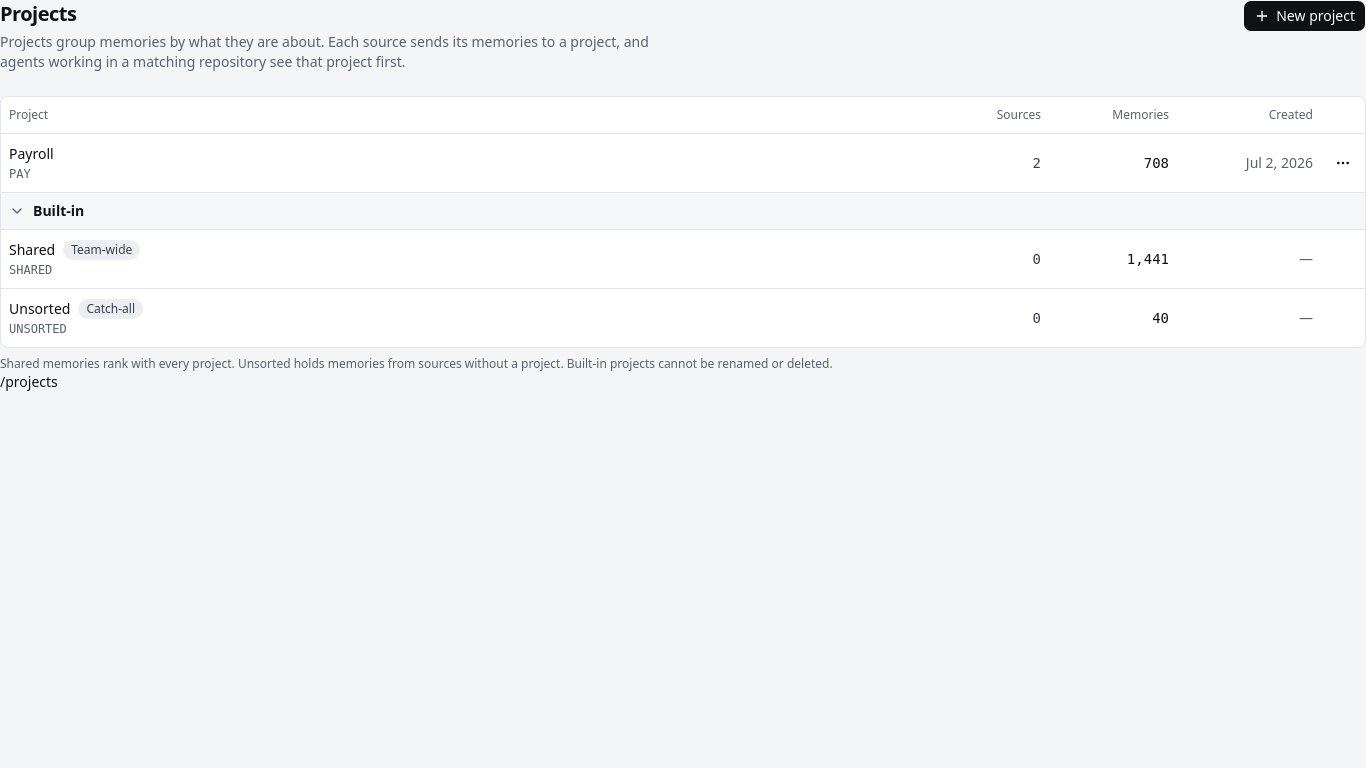
Scenario: the delete cannot go ahead until it knows what the delete changes
The image size is (1366, 768).
Click the button named "Actions for Payroll". click: [1343, 162]
box: [1329,148,1357,176]
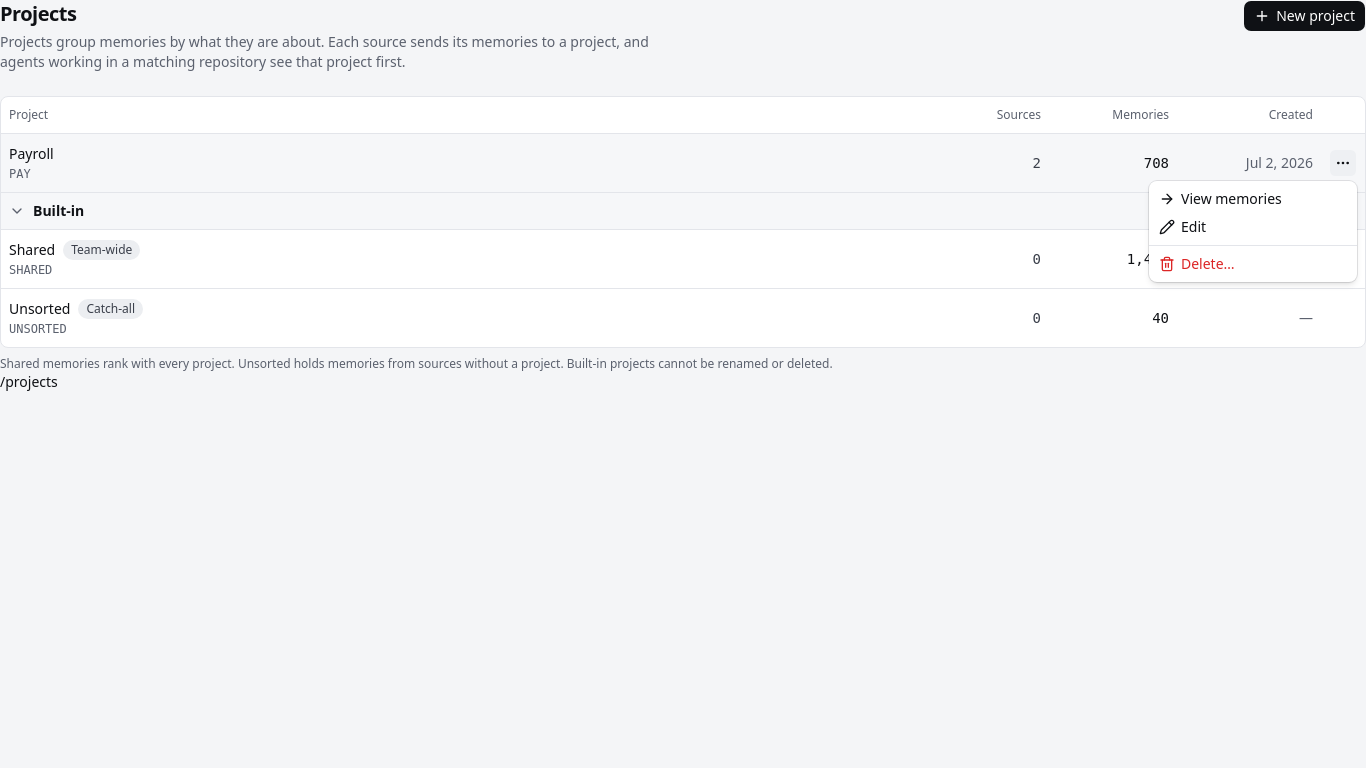
Click the menu item "Delete…". click: [1197, 264]
box: [1159,254,1235,273]
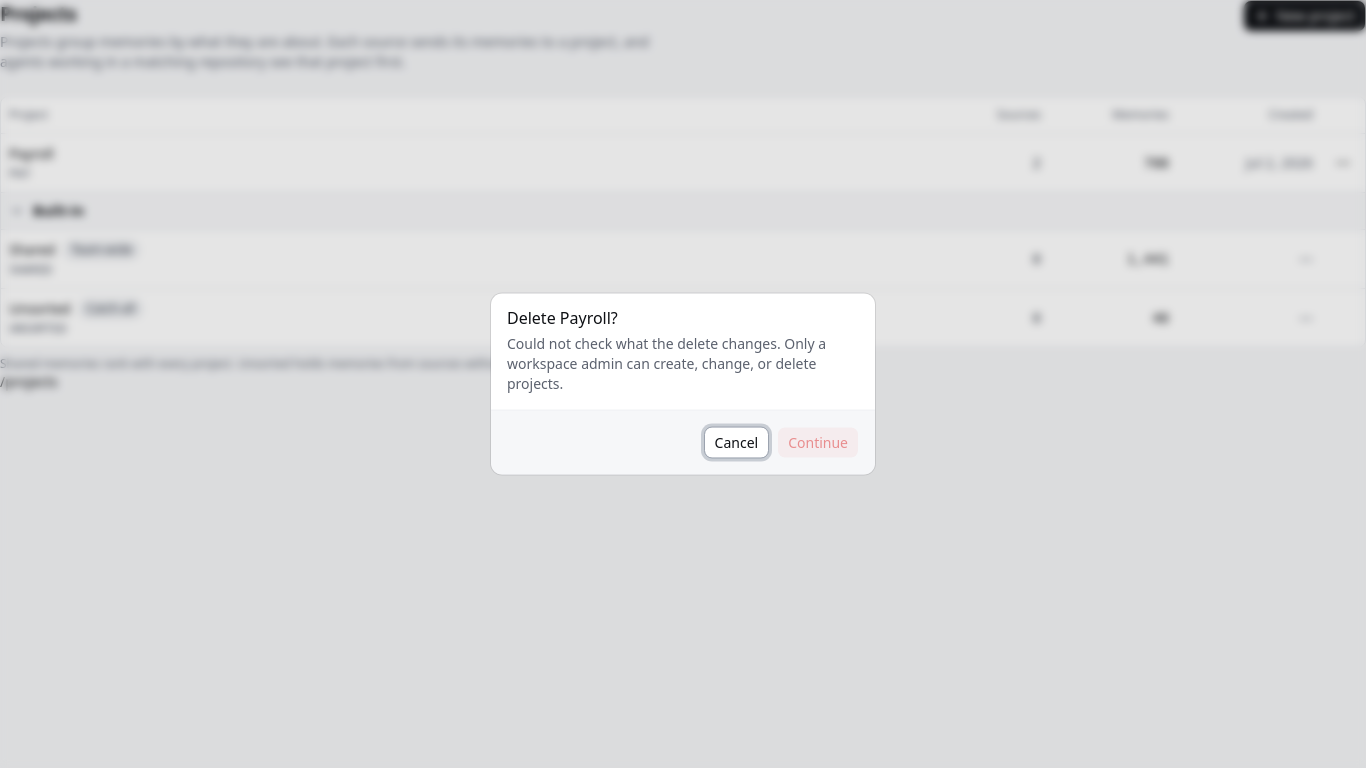
Expected: the text "Could not check what the delete changes." is shown, [507,334,826,392]
Expected: the button "Continue" is disabled, [777,426,859,458]
